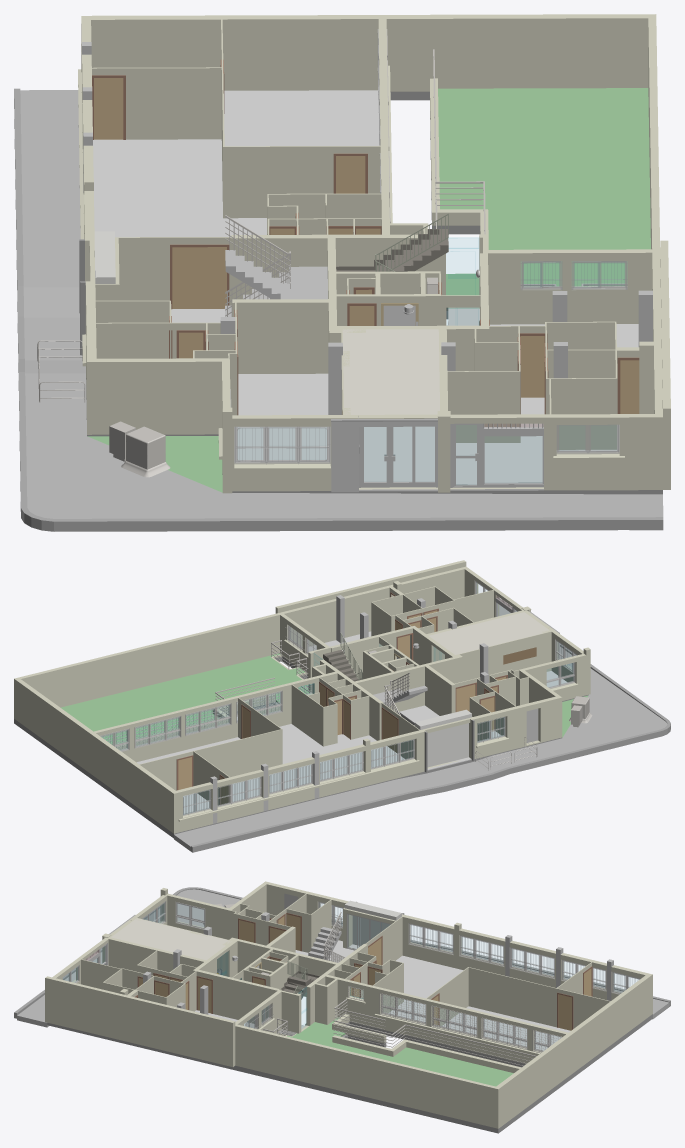
The picture shows the model from 3 angles, top to bottom: view 1: azimuth 30°, elevation 25°; view 2: azimuth 150°, elevation 25°; view 3: azimuth 270°, elevation 25°; orthographic projection. The views are drawn at different scales.
Parts seen in each view (by area): view 1: 3RLTfSMBXE_BWgA7WbvgjJ, 2UhhXCNCjF1xC3dyjbG$SE, 1IQJpSU49DlPKPMYhdab9h, 0JJqPutQD7fgEmZfe5WIOV, 0JJqPutQD7fgEmZfq5WIOV, 0JJqPutQD7fgEmZfe5WIGF, 3RLTfSMBXE_BWgA7WbvgI5, 3RLTfSMBXE_BWgA7Wbvgna, 1ESEB1nMzCOBvAGWBX1s_l, 33ktarrbzBUOiXnLe84g54, 33ktarrbzBUOiXnLe84gQJ, 2uM98Xtxf8dwcRJJRwTGwH (+58 smaller); view 2: 3RLTfSMBXE_BWgA7Wbvgs$, 1IQJpSU49DlPKPMYhdab9h, 3RLTfSMBXE_BWgA7WbvgjJ, 2UhhXCNCjF1xC3dyjbG$SE, 0JJqPutQD7fgEmZfe5WIOV, 0JJqPutQD7fgEmZfq5WIOV, 1r7kD2unvCQ8TNvjz6uykQ, 33ktarrbzBUOiXnLe84g42, 059zzJJCT0Ohc6bi$ICakr, 1ESEB1nMzCOBvAGWBX1s_l, 3RLTfSMBXE_BWgA7WbvgBI, 1rLkdWJRf2ZxmyXYb$CIMe (+53 smaller); view 3: 3RLTfSMBXE_BWgA7Wbvgs$, 321EIHH0v8KOO2s9RjdAGp, 3RLTfSMBXE_BWgA7WbvgjJ, 33ktarrbzBUOiXnLe84g42, 2UhhXCNCjF1xC3dyjbG$SE, 1r7kD2unvCQ8TNvjz6uykQ, 3RLTfSMBXE_BWgA7Wbvfa1, 1IQJpSU49DlPKPMYhdab9h, 1ESEB1nMzCOBvAGWBX1s_l, 3RLTfSMBXE_BWgA7WbvgM$, 3RLTfSMBXE_BWgA7WbvgG4, 3RLTfSMBXE_BWgA7WbvglP (+55 smaller).
Boxes of the visible parts, <box> form: 3RLTfSMBXE_BWgA7WbvgjJ: <box>91,14,648,91</box>; 2UhhXCNCjF1xC3dyjbG$SE: <box>93,90,638,484</box>; 1IQJpSU49DlPKPMYhdab9h: <box>438,88,650,295</box>; 0JJqPutQD7fgEmZfe5WIOV: <box>25,373,222,518</box>; 0JJqPutQD7fgEmZfq5WIOV: <box>20,90,80,287</box>; 0JJqPutQD7fgEmZfe5WIGF: <box>18,372,663,531</box>; 3RLTfSMBXE_BWgA7WbvgI5: <box>96,358,229,434</box>; 3RLTfSMBXE_BWgA7Wbvgna: <box>483,249,652,324</box>; 1ESEB1nMzCOBvAGWBX1s_l: <box>342,329,439,414</box>; 33ktarrbzBUOiXnLe84g54: <box>92,67,221,139</box>; 33ktarrbzBUOiXnLe84gQJ: <box>224,145,380,218</box>; 2uM98Xtxf8dwcRJJRwTGwH: <box>232,299,328,373</box>; 3RLTfSMBXE_BWgA7Wbvgs$: <box>14,566,467,719</box>; 1IQJpSU49DlPKPMYhdab9h: <box>61,653,309,744</box>; 3RLTfSMBXE_BWgA7WbvgjJ: <box>16,679,175,831</box>; 2UhhXCNCjF1xC3dyjbG$SE: <box>137,631,567,813</box>; 0JJqPutQD7fgEmZfe5WIOV: <box>492,688,667,767</box>; 0JJqPutQD7fgEmZfq5WIOV: <box>174,780,410,851</box>; 1r7kD2unvCQ8TNvjz6uykQ: <box>94,683,288,762</box>; 33ktarrbzBUOiXnLe84g42: <box>139,729,282,790</box>; 059zzJJCT0Ohc6bi$ICakr: <box>469,695,562,758</box>; 1ESEB1nMzCOBvAGWBX1s_l: <box>429,612,548,654</box>; 3RLTfSMBXE_BWgA7WbvgBI: <box>354,655,462,712</box>; 1rLkdWJRf2ZxmyXYb$CIMe: <box>414,709,471,767</box>; 3RLTfSMBXE_BWgA7Wbvgs$: <box>235,1024,500,1128</box>; 321EIHH0v8KOO2s9RjdAGp: <box>45,976,235,1066</box>; 3RLTfSMBXE_BWgA7WbvgjJ: <box>496,975,650,1126</box>; 33ktarrbzBUOiXnLe84g42: <box>468,967,610,1028</box>; 2UhhXCNCjF1xC3dyjbG$SE: <box>195,940,570,1050</box>; 1r7kD2unvCQ8TNvjz6uykQ: <box>373,986,567,1063</box>; 3RLTfSMBXE_BWgA7Wbvfa1: <box>47,1014,652,1133</box>; 1IQJpSU49DlPKPMYhdab9h: <box>287,1017,513,1086</box>; 1ESEB1nMzCOBvAGWBX1s_l: <box>111,918,231,960</box>; 3RLTfSMBXE_BWgA7WbvgM$: <box>196,970,279,1023</box>; 3RLTfSMBXE_BWgA7WbvgG4: <box>108,937,205,972</box>; 3RLTfSMBXE_BWgA7WbvglP: <box>321,974,375,1027</box>.
Size of the model in its own units: 32.78 by 4.51 by 37.66.
